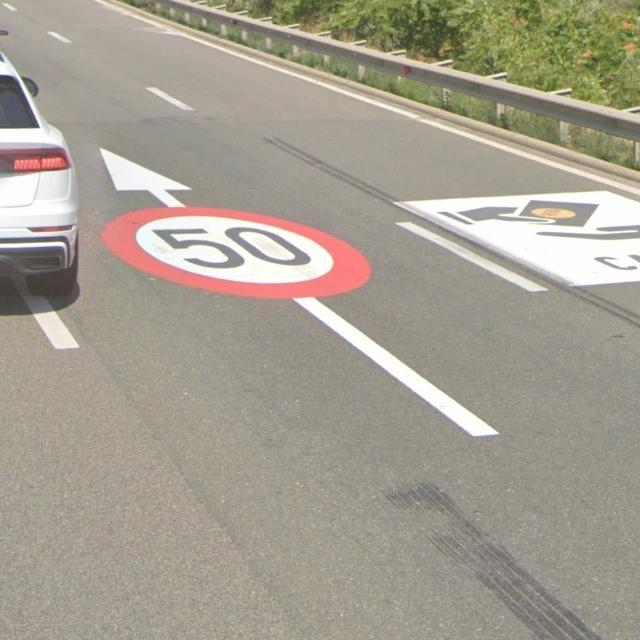forb_speed_over_50: (102, 206, 372, 301)
